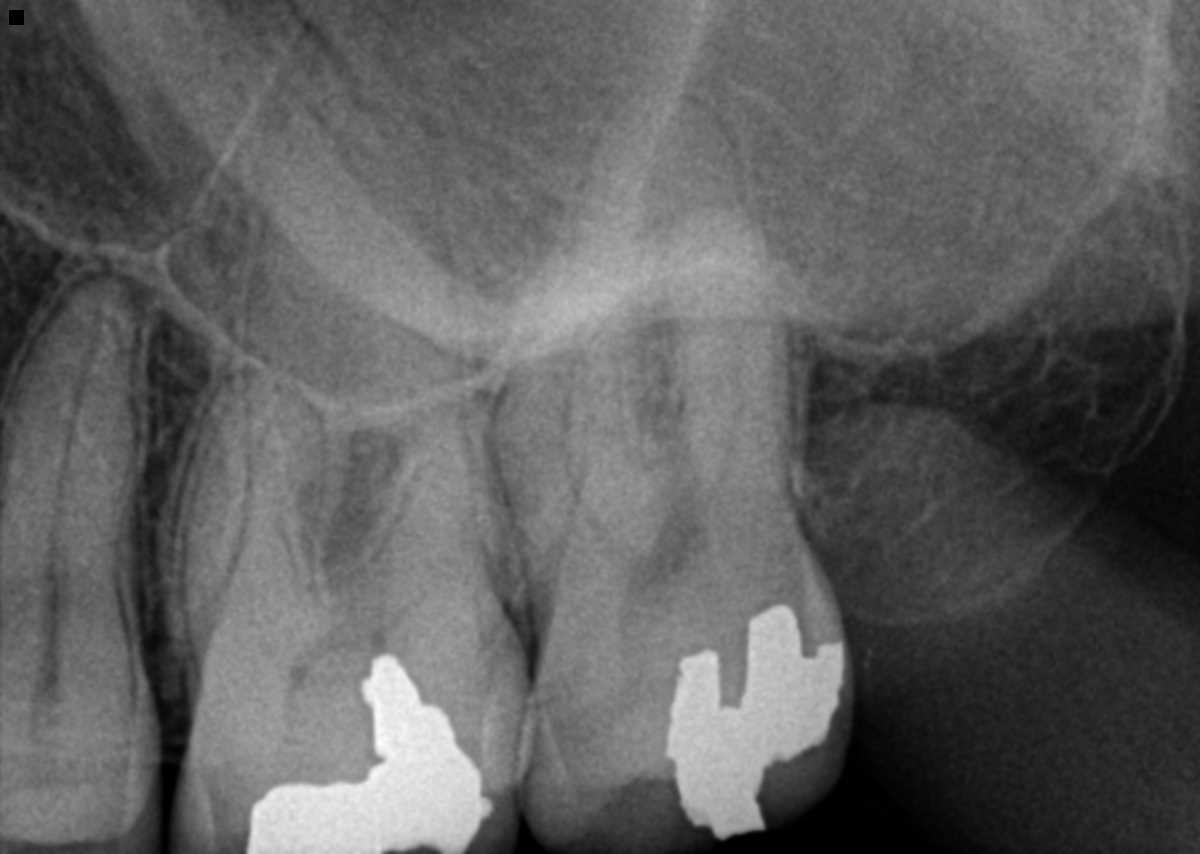Distal Canal: (707, 313, 744, 493)
Distal Root: (672, 207, 794, 487), (362, 433, 498, 596)
Main Canal: (43, 297, 107, 639)
Main Root: (0, 274, 146, 648)
Mesial Canal: (565, 361, 611, 547)
Mesial Root: (489, 237, 656, 587), (172, 367, 324, 653)
Palatal Root: (219, 100, 496, 637), (549, 90, 781, 626)
